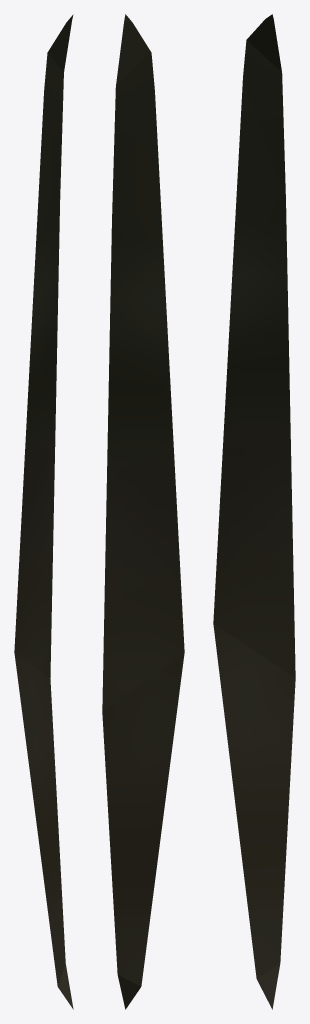
The picture shows the model from 3 angles, left to right: view 1: azimuth 30°, elevation 25°; view 2: azimuth 150°, elevation 25°; view 3: azimuth 330°, elevation 25°; orthographic projection.
Bounding box in the file's own units: 0.0137 × 0.2195 × 0.00923.
1 material, 1 textured.
